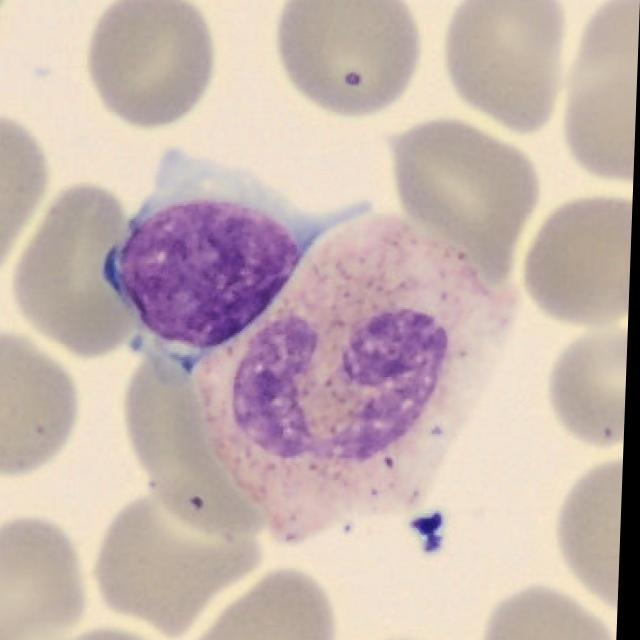Linfocito atipico: (104, 149, 372, 373)
Neutrofilo segmentado: (192, 210, 511, 544)
